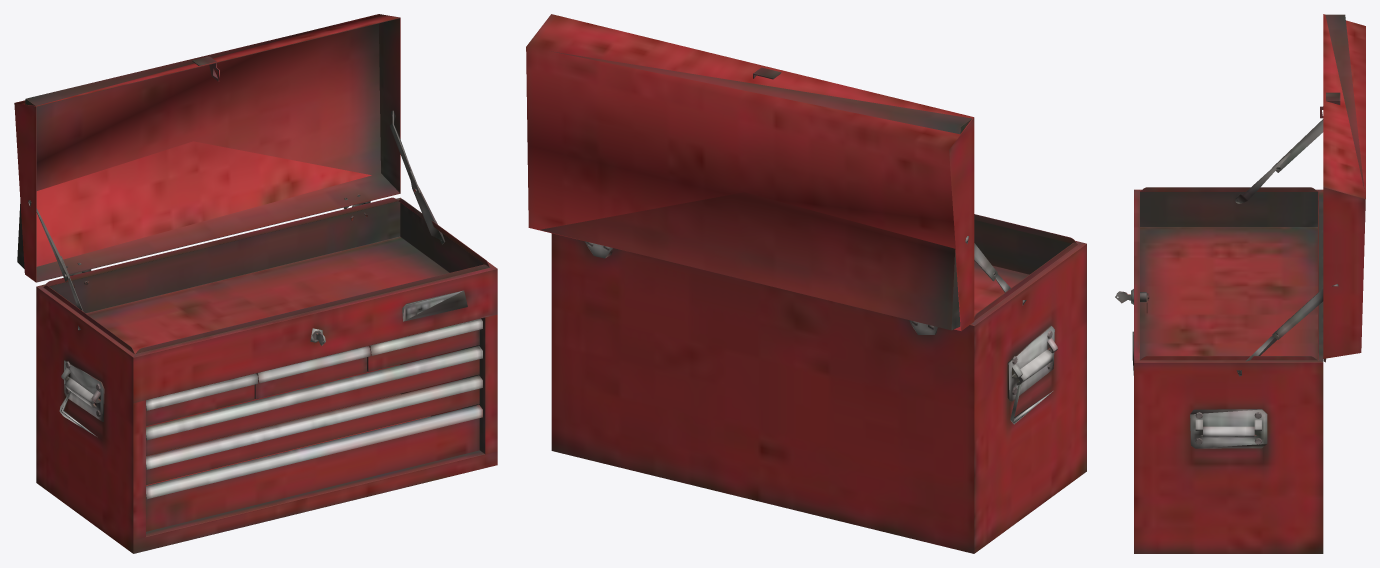
File: epique.glb
The picture shows the model from 3 angles, left to right: view 1: azimuth 30°, elevation 25°; view 2: azimuth 150°, elevation 25°; view 3: azimuth 270°, elevation 25°; orthographic projection. The views are drawn at different scales.
Parts seen in each view (by area): view 1: metal_tool_chest_chest; view 2: metal_tool_chest_chest; view 3: metal_tool_chest_chest.
Boxes of the visible parts, bbox=[...] form: metal_tool_chest_chest: bbox=[14, 14, 497, 553]; metal_tool_chest_chest: bbox=[526, 14, 1086, 553]; metal_tool_chest_chest: bbox=[1115, 14, 1365, 553].
Size of the model in its own units: 0.6854 by 0.6518 by 0.4037.
Materials: 1 (1 with a texture image).
